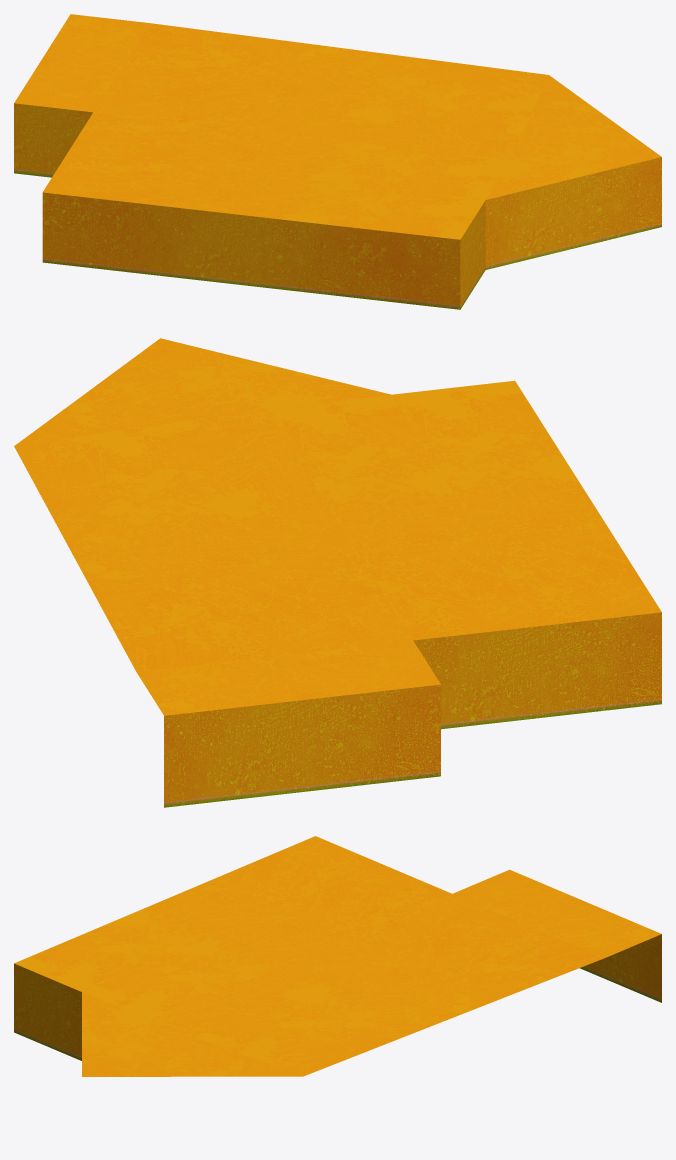
Rendered from FacilityPlatform_01_SM_Low.fbx.
3 views of the same model, one above another, from view 1: azimuth 30°, elevation 25°; view 2: azimuth 150°, elevation 25°; view 3: azimuth 270°, elevation 25° (orthographic). The views are drawn at different scales.
Parts seen in each view (by area): view 1: facility_platform_01_geo; view 2: facility_platform_01_geo; view 3: facility_platform_01_geo.
Part boxes in pixels (x1,y1,x2,y2): facility_platform_01_geo: (14,14,661,309); facility_platform_01_geo: (14,338,661,807); facility_platform_01_geo: (14,836,661,1076).
Bounding box in the file's own units: 1041 × 139 × 1183.
Materials: 2 (2 with a texture image).
